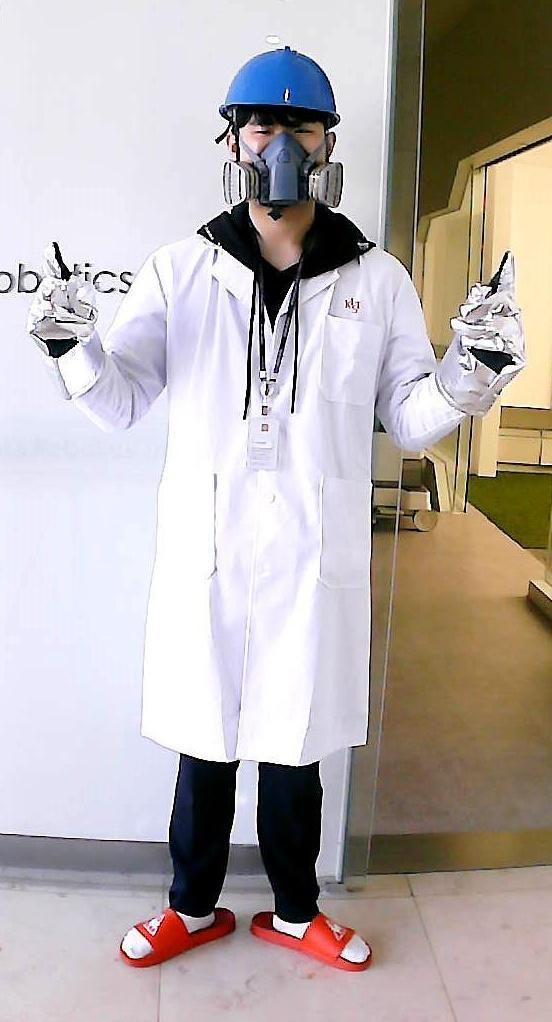lab_coat: (117, 272, 420, 761)
